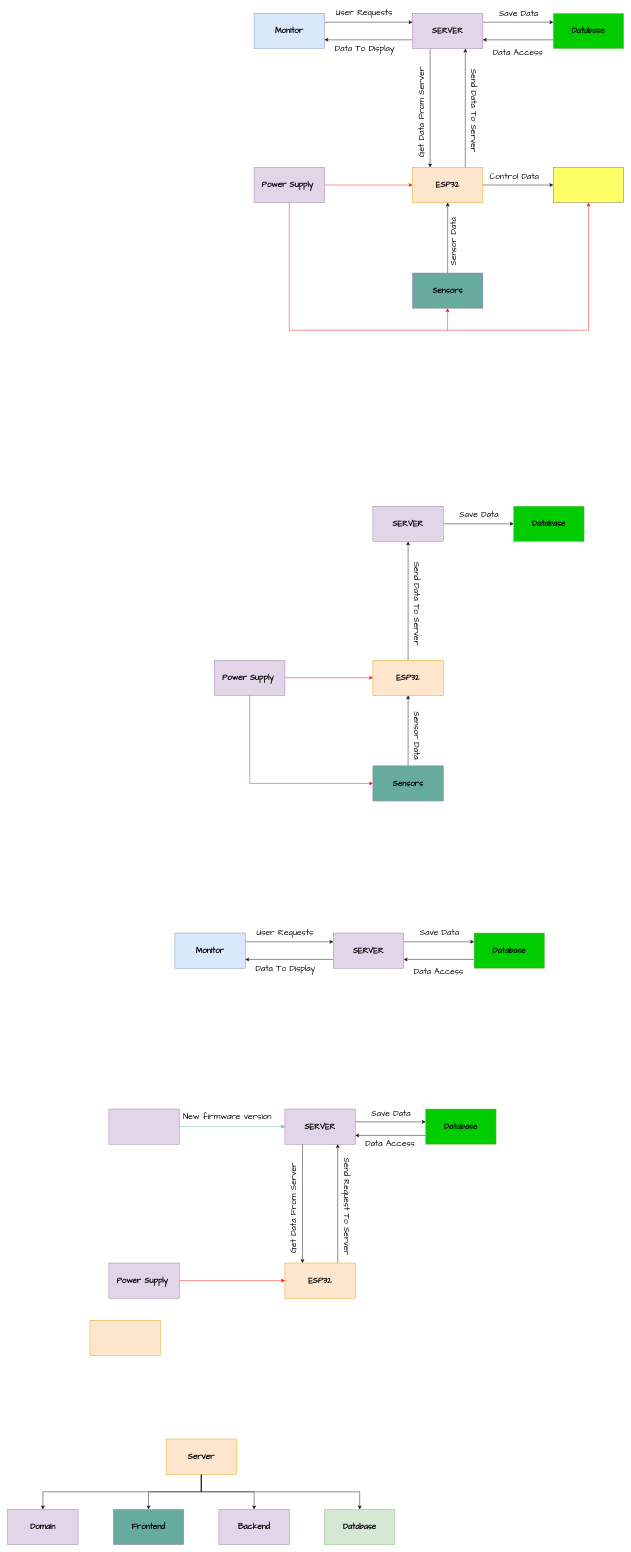
Image size: 631x1552. Some labels were removed from this diagram. The box of each missing label's shape, as (x1, y1, x2, y2) in pixels:
Developer: (108, 1109, 179, 1144)
Devices: (553, 167, 624, 203)
Router: (90, 1320, 160, 1355)
